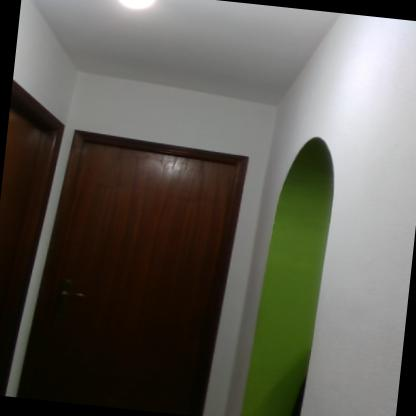closed: (16, 112, 260, 415), (0, 72, 65, 399)
